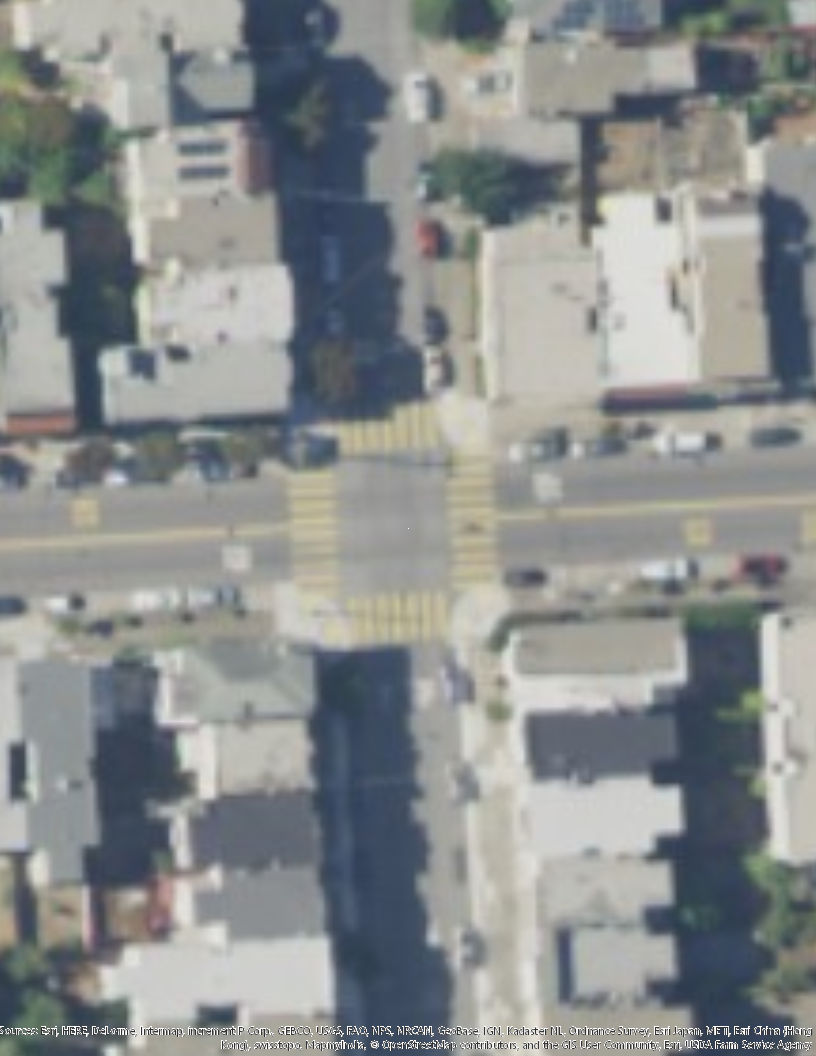zebracross: (447, 449, 499, 582), (291, 458, 340, 599), (344, 583, 447, 646), (333, 399, 447, 449)
